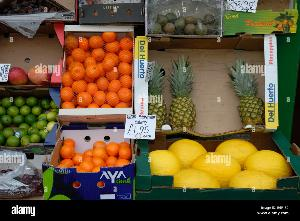avocado: (144, 1, 228, 36)
lime: (0, 86, 62, 148)
melon: (144, 132, 300, 204)
orange: (66, 30, 136, 116), (61, 132, 132, 178)
pineapple: (147, 42, 275, 128)
